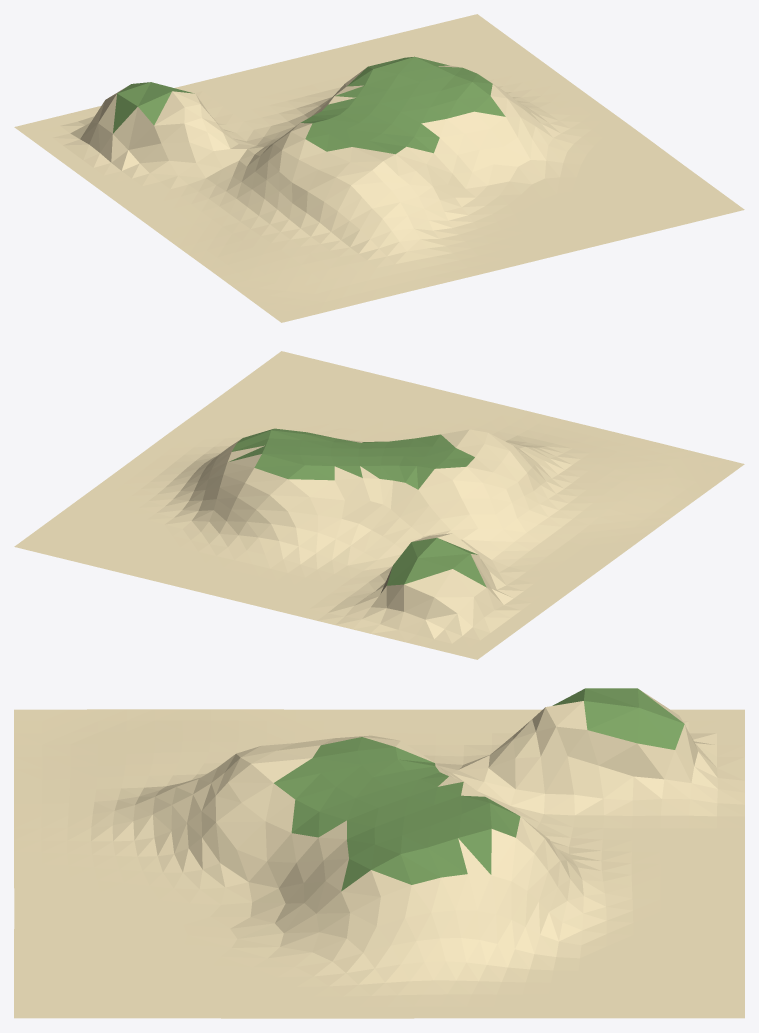
Rendered from Island_3.fbx.
3 views of the same model, one above another, from view 1: azimuth 30°, elevation 25°; view 2: azimuth 150°, elevation 25°; view 3: azimuth 270°, elevation 25° (orthographic). The views are drawn at different scales.
Parts seen in each view (by area): view 1: Island_3; view 2: Island_3; view 3: Island_3.
Part boxes in pixels (x1,y1,x2,y2): Island_3: (14, 14, 744, 322); Island_3: (14, 351, 744, 659); Island_3: (14, 688, 744, 1018).
Bounding box in the file's own units: 4503 × 585 × 4501.
